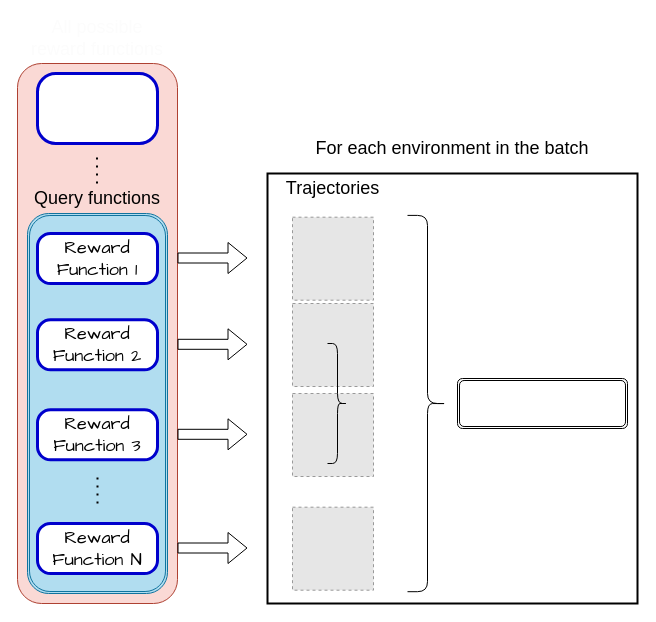
The diagram is 656 pixels wide and 622 high, and some of its shapes have lost their labels. Grey dashed boxes stand in for pictures. The centre of each missing label's shape, as x and y in pixels:
"Other possible functions" belongs at point 97,108.
"Which is better?" belongs at point 542,403.
